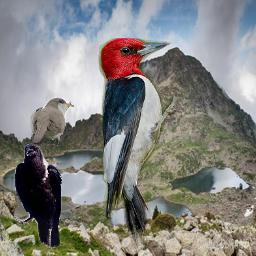Crow: (14, 143, 63, 250)
Cuckoo: (30, 97, 74, 146)
Woodpecker: (95, 38, 184, 252)
